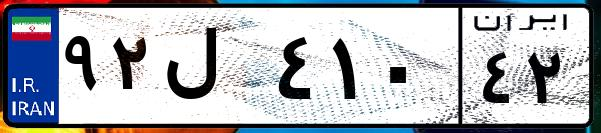0: (385, 28, 445, 110)
1: (330, 28, 385, 110)
2: (525, 38, 570, 115), (110, 28, 158, 98)
4: (270, 28, 330, 110), (475, 38, 525, 113)
9: (57, 26, 110, 100)
ل: (158, 20, 270, 120)
